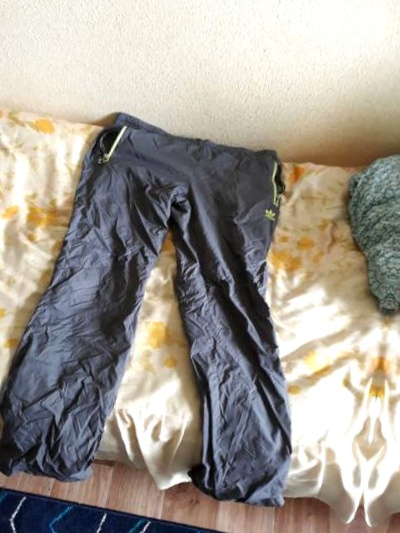Pants: (9, 80, 351, 521)
